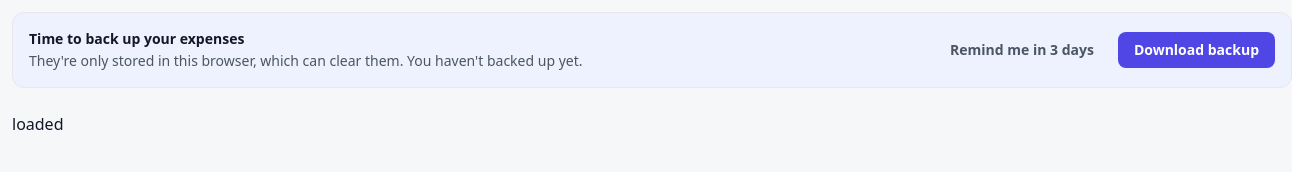
Test: BackupReminder › can be snoozed
Expected: the text "loaded" is shown, left=12, top=113, right=64, bottom=135
Click the button "Remind me in 3 days": coordinates (1022, 50) left=934, top=32, right=1110, bottom=68
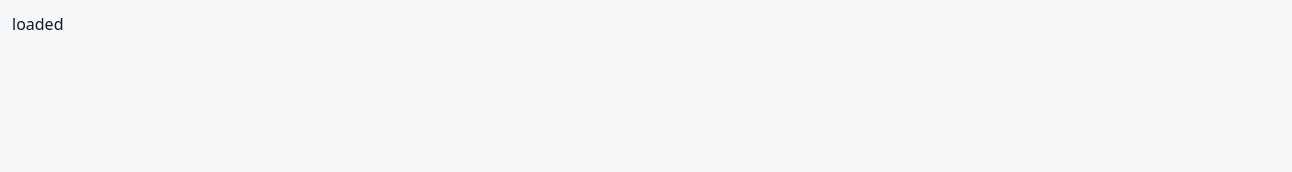
Result: the heading "Time to back up your expenses" is gone
